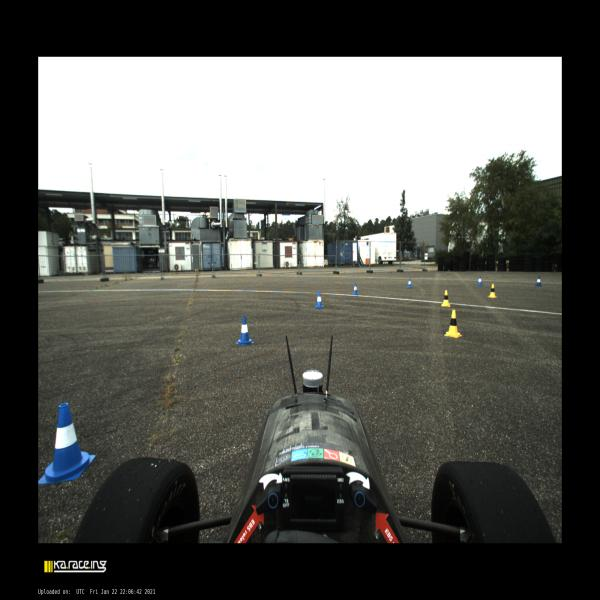blue_cone: (38, 402, 96, 486), (236, 316, 254, 346), (315, 292, 324, 309), (352, 283, 358, 295), (535, 277, 542, 286), (477, 276, 483, 286), (407, 278, 412, 288)
yellow_cone: (444, 310, 462, 338), (442, 290, 450, 307), (488, 284, 497, 298)
